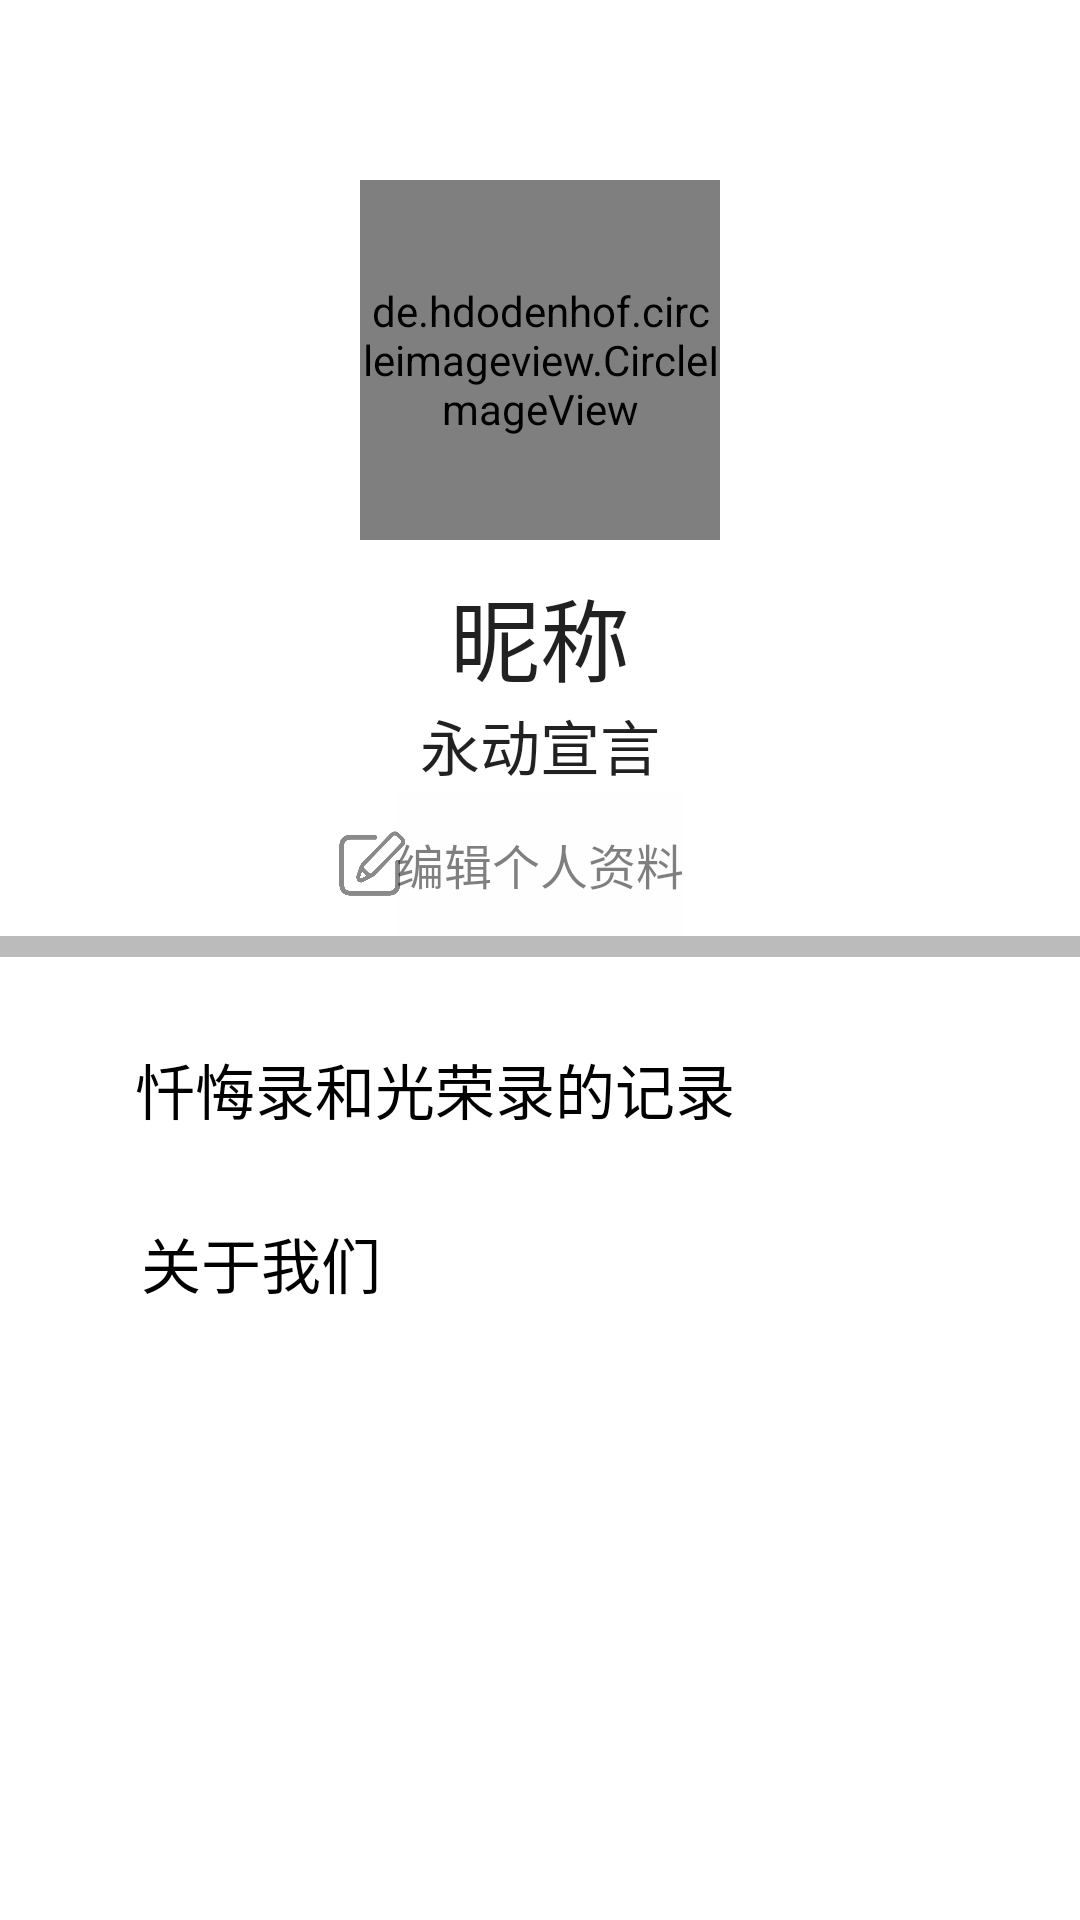

Icons on this 1080px×1920px Android screen, each with the point to tap as (x=x, y=y):
edit personal document: (x=375, y=863)
